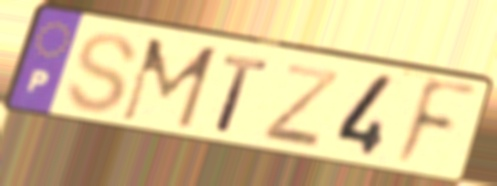4: (332, 70, 393, 164)
F: (388, 75, 482, 172)
M: (116, 36, 222, 134)
S: (63, 30, 141, 117)
T: (211, 52, 274, 137)
Z: (259, 60, 344, 152)
